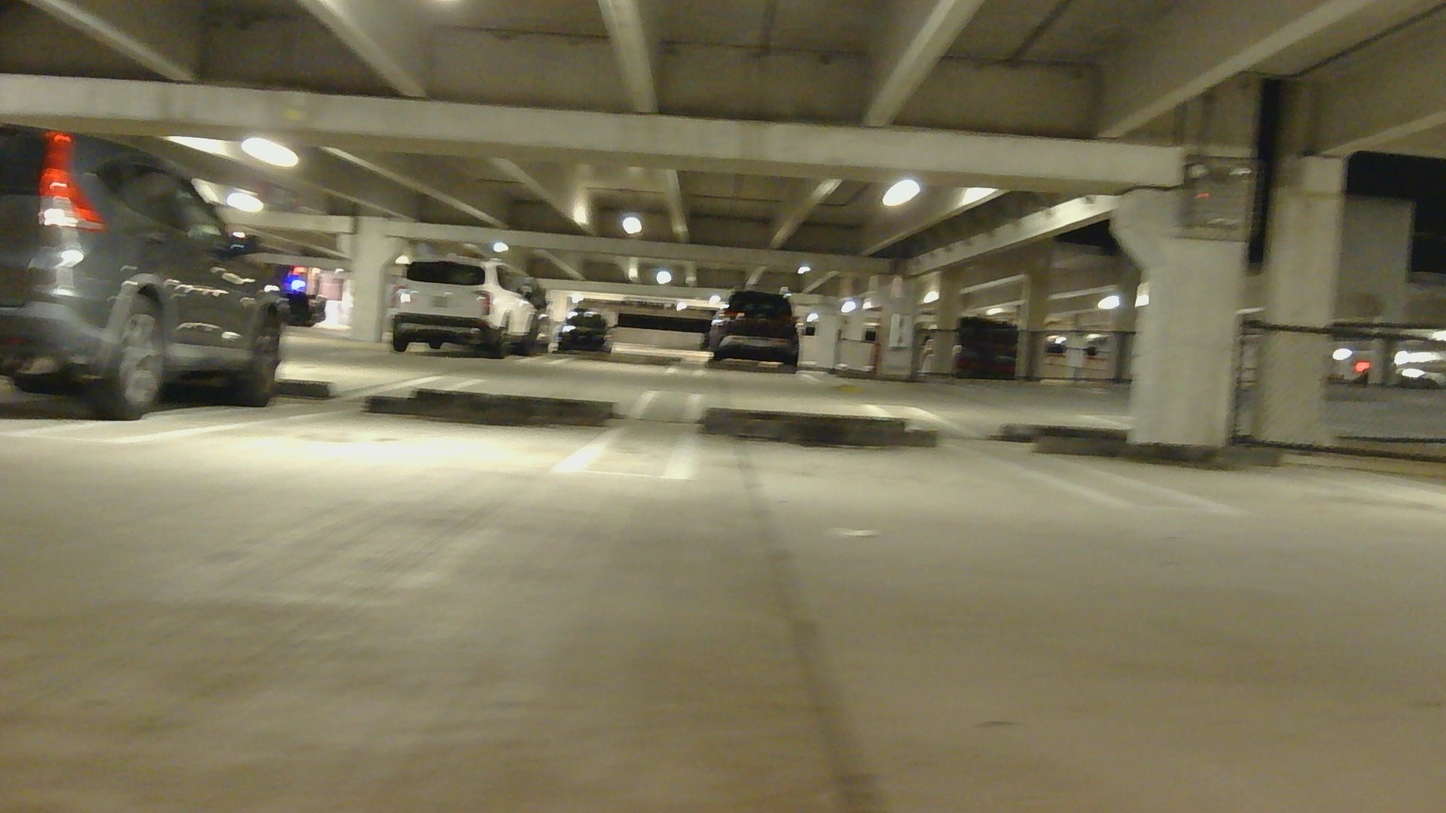empty_spot: (1032, 402, 1446, 554), (138, 383, 607, 472), (693, 414, 1109, 508)
occupied_spot: (2, 118, 285, 419)
